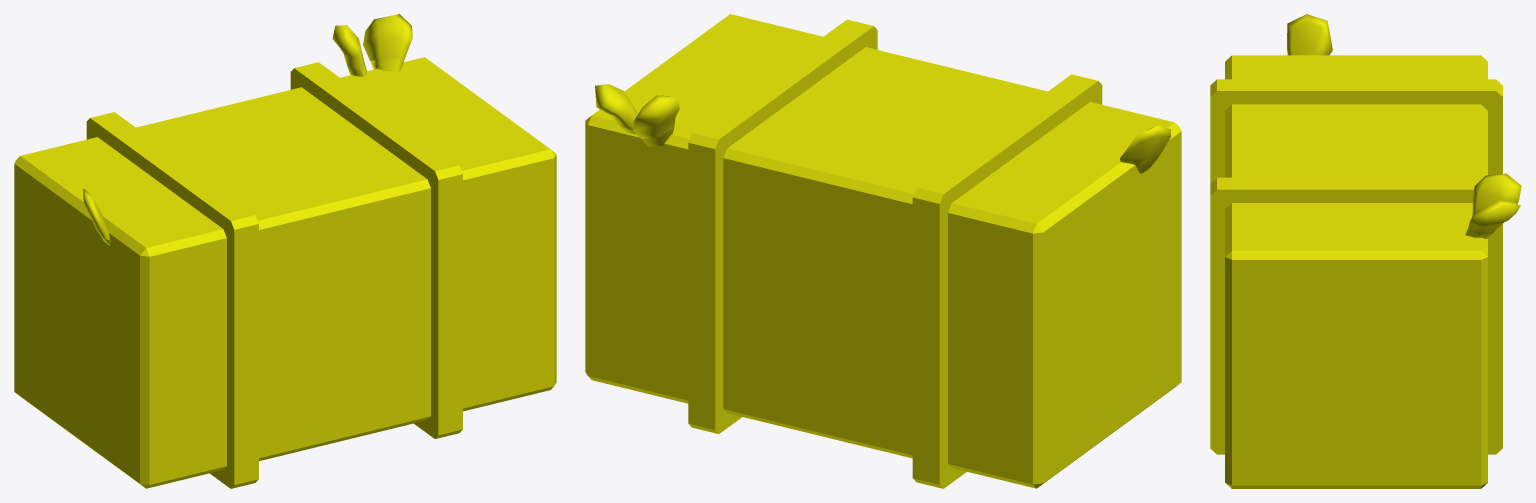
3 renders of one model, left to right at view 1: azimuth 30°, elevation 25°; view 2: azimuth 150°, elevation 25°; view 3: azimuth 270°, elevation 25°, orthographic. The views are drawn at different scales.
Visible parts, largest first — view 1: borom; view 2: borom; view 3: borom.
Part boxes in pixels (x1,y1,x2,y2): borom: [14, 14, 556, 488]; borom: [585, 14, 1181, 488]; borom: [1210, 14, 1521, 488].
Size of the model in its own units: 3.32 by 2.16 by 2.08.
1 material, 1 textured.
